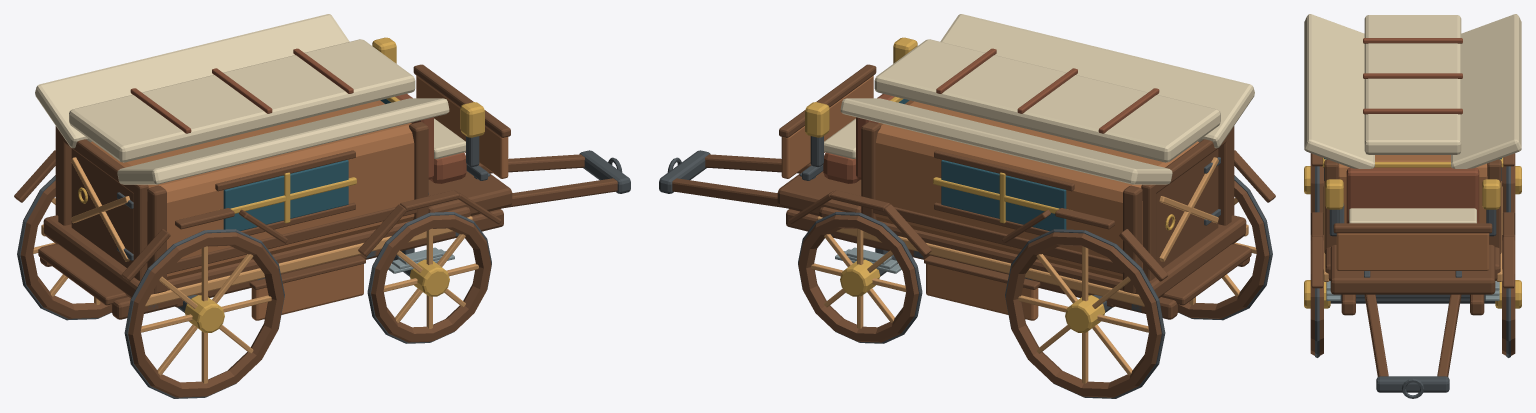
Rendered from carriage_base_v01.glb.
3 views of the same model, side by side, from view 1: azimuth 30°, elevation 25°; view 2: azimuth 150°, elevation 25°; view 3: azimuth 270°, elevation 25° (orthographic). The views are drawn at different scales.
Visible parts, largest first — view 1: GEO_Roof, GEO_Cabin, GEO_RoofEave.001, GEO_RoofEave, GEO_Wheel_-1_-1_Rim, GEO_Wheel_+1_-1_Rim, GEO_Window_L, GEO_Deck, GEO_RearDoor, GEO_SideLocker, GEO_Wheel_-1_+1_Rim, GEO_DeckRubRail (+32 smaller); view 2: GEO_Roof, GEO_Cabin, GEO_RoofEave, GEO_RoofEave.001, GEO_Wheel_-1_+1_Rim, GEO_Wheel_+1_+1_Rim, GEO_Window_R, GEO_Deck, GEO_RearDoor, GEO_SideLocker.001, GEO_Wheel_-1_-1_Rim, GEO_DeckRubRail.001 (+32 smaller); view 3: GEO_Roof, GEO_RoofEave, GEO_RoofEave.001, GEO_Dashboard, GEO_DriverBack, GEO_DriverDeck, GEO_DriverCushion, GEO_DashboardRail, GEO_Cabin, GEO_HitchBar, GEO_HitchLeft, GEO_HitchRight (+32 smaller).
Boxes of the visible parts, x1,y1,x2,y2 form: GEO_Roof: [69, 39, 415, 162]; GEO_Cabin: [91, 100, 414, 280]; GEO_RoofEave.001: [35, 14, 349, 148]; GEO_RoofEave: [117, 98, 449, 184]; GEO_Wheel_-1_-1_Rim: [128, 232, 283, 397]; GEO_Wheel_+1_-1_Rim: [371, 215, 491, 342]; GEO_Window_L: [223, 160, 348, 230]; GEO_Deck: [43, 207, 470, 298]; GEO_RearDoor: [71, 149, 133, 267]; GEO_SideLocker: [251, 264, 363, 320]; GEO_Wheel_-1_+1_Rim: [20, 175, 111, 318]; GEO_DeckRubRail: [145, 216, 472, 306]; GEO_Roof: [874, 39, 1220, 162]; GEO_Cabin: [875, 100, 1198, 280]; GEO_RoofEave: [940, 14, 1254, 148]; GEO_RoofEave.001: [840, 98, 1172, 184]; GEO_Wheel_-1_+1_Rim: [1006, 232, 1161, 397]; GEO_Wheel_+1_+1_Rim: [798, 215, 918, 342]; GEO_Window_R: [941, 160, 1066, 230]; GEO_Deck: [819, 207, 1246, 298]; GEO_RearDoor: [1156, 149, 1218, 267]; GEO_SideLocker.001: [926, 264, 1038, 320]; GEO_Wheel_-1_-1_Rim: [1178, 175, 1269, 318]; GEO_DeckRubRail.001: [817, 216, 1144, 306]; GEO_Roof: [1364, 15, 1461, 154]; GEO_RoofEave: [1304, 14, 1374, 168]; GEO_RoofEave.001: [1451, 14, 1521, 168]; GEO_Dashboard: [1336, 233, 1489, 270]; GEO_DriverBack: [1346, 167, 1479, 222]; GEO_DriverDeck: [1330, 244, 1495, 294]; GEO_DriverCushion: [1349, 208, 1476, 223]; GEO_DashboardRail: [1333, 223, 1492, 233]; GEO_Cabin: [1327, 155, 1498, 223]; GEO_HitchBar: [1376, 376, 1449, 392]; GEO_HitchLeft: [1364, 294, 1388, 376]; GEO_HitchRight: [1437, 294, 1461, 376].
Size of the model in its own units: 5.51 by 2.39 by 2.14.
